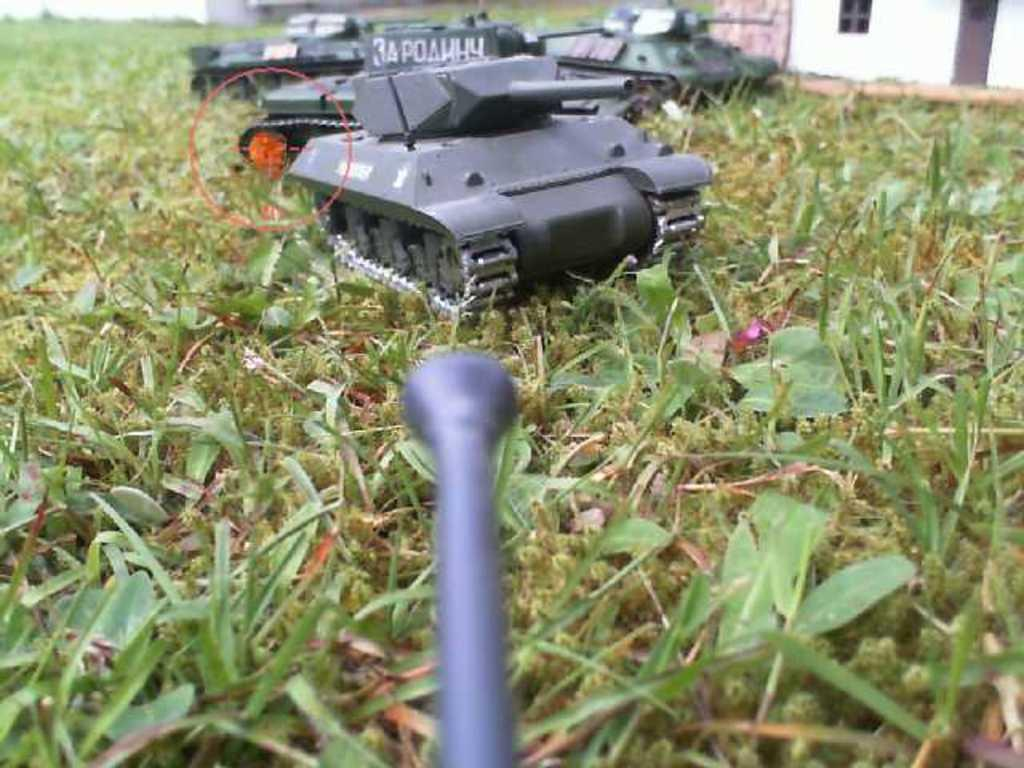Tank: (293, 38, 714, 309), (538, 0, 771, 122)
